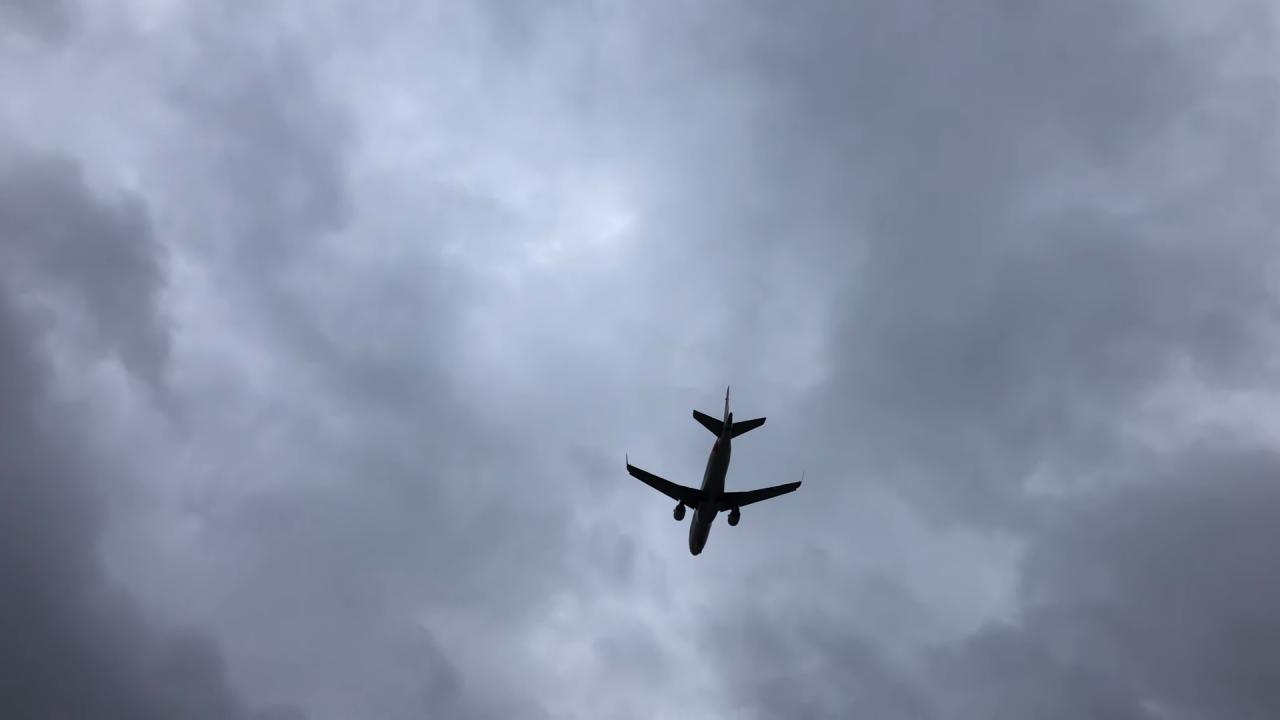Airplane: (614, 381, 811, 563)
